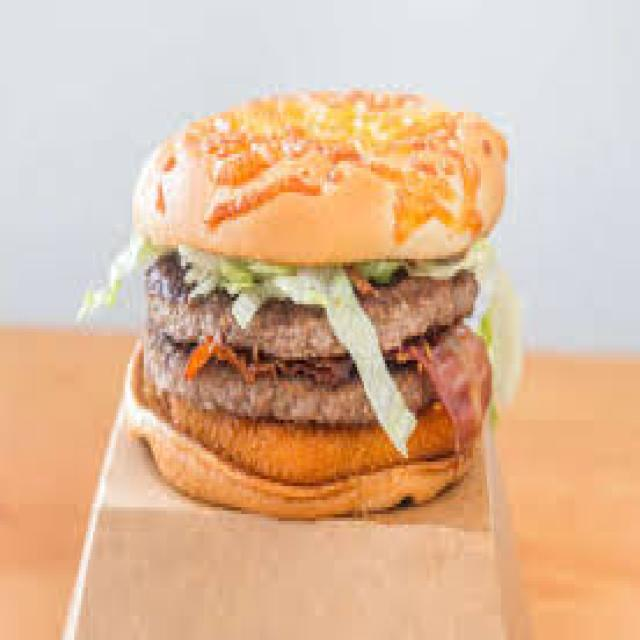햄버거: (114, 58, 508, 562)
